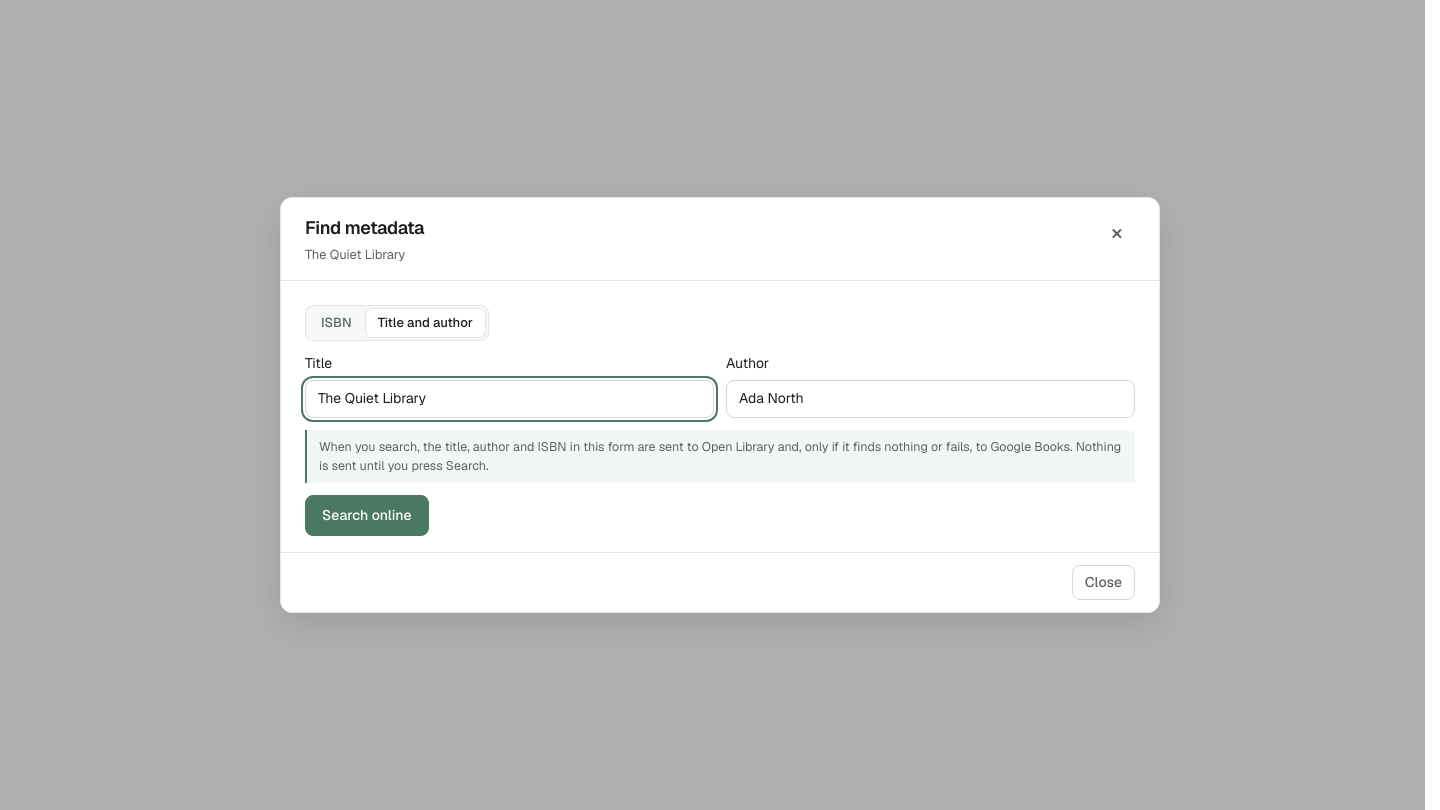
Test: FindMetadataDialog › searches by title and author when the book has no ISBN
Replace the text in the field labelled "Title" with "Silent Shelf": (510, 399) [305, 380, 714, 418]
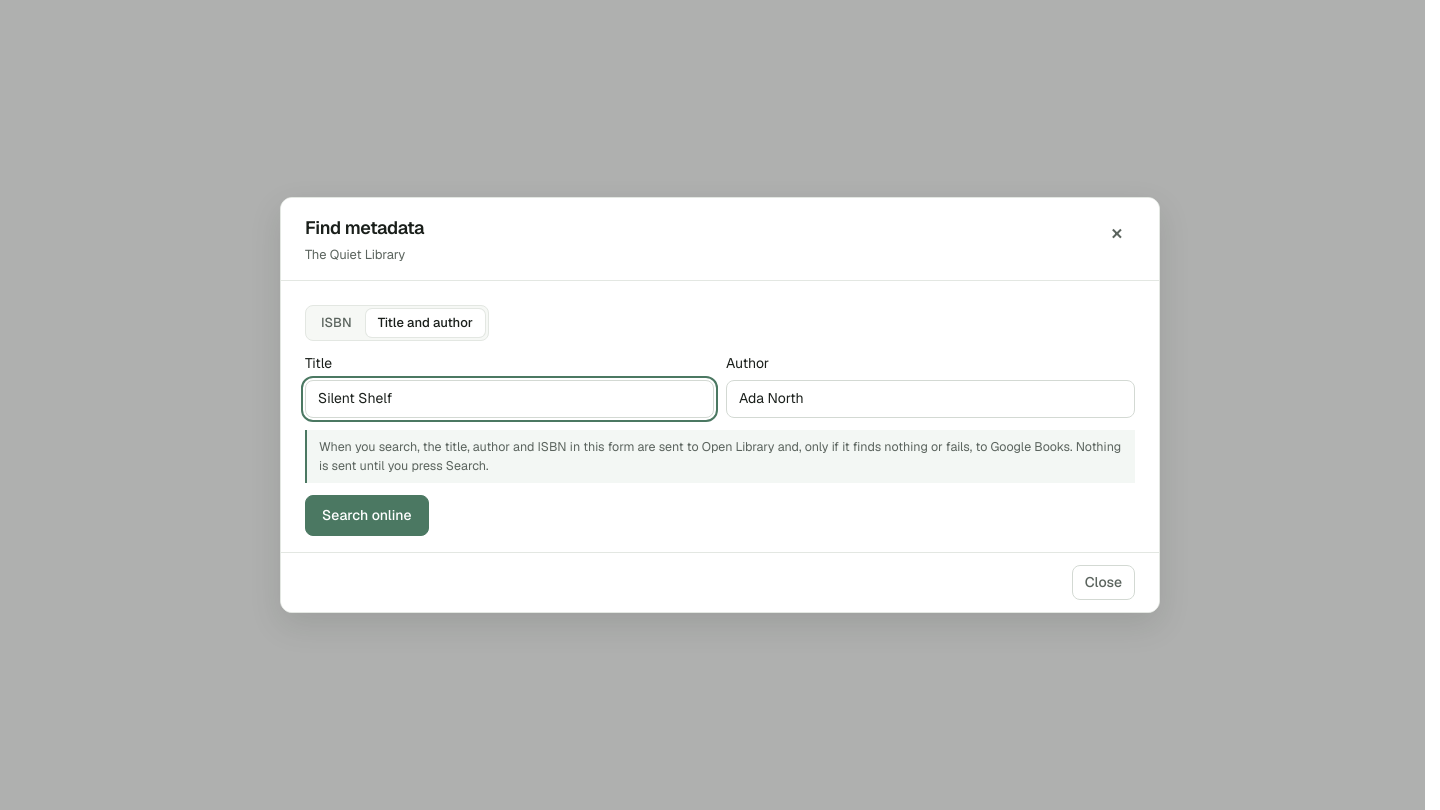
Replace the text in the field labelled "Author" with "Mira Costa": (930, 399) [726, 380, 1135, 418]
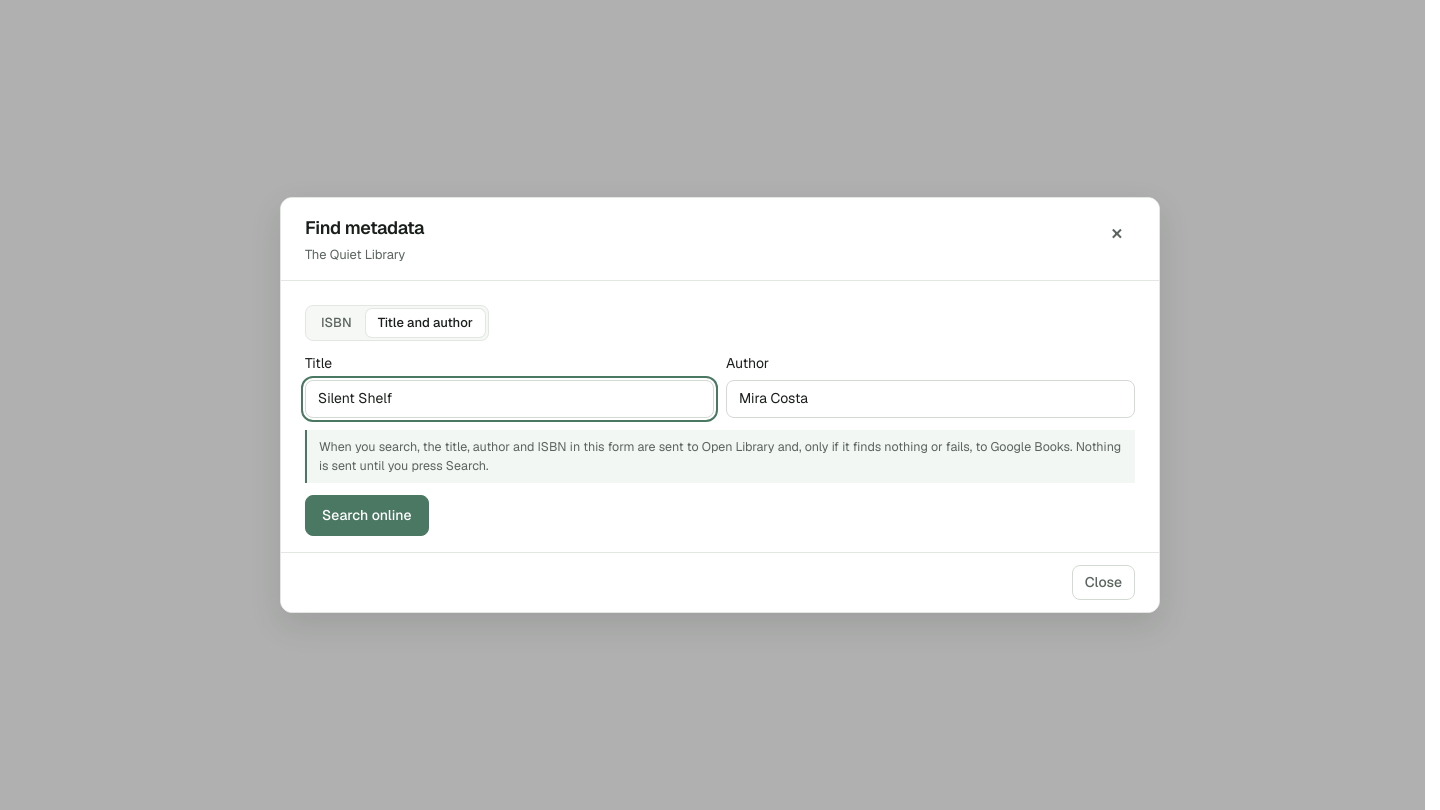
Click the button "Search online": (367, 516) [305, 495, 428, 536]
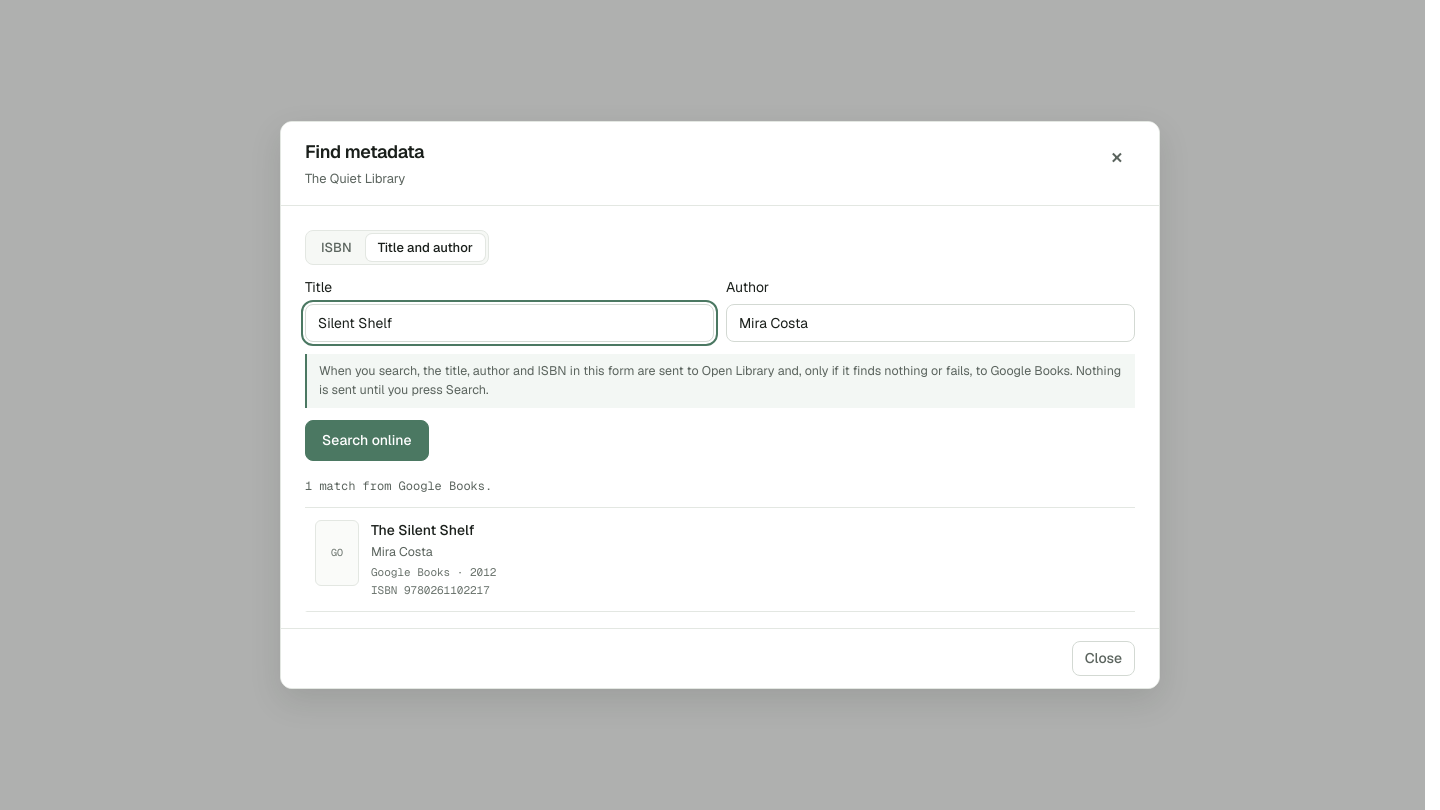
Now the list named "Metadata matches" is shown, box [305, 507, 1135, 612]
